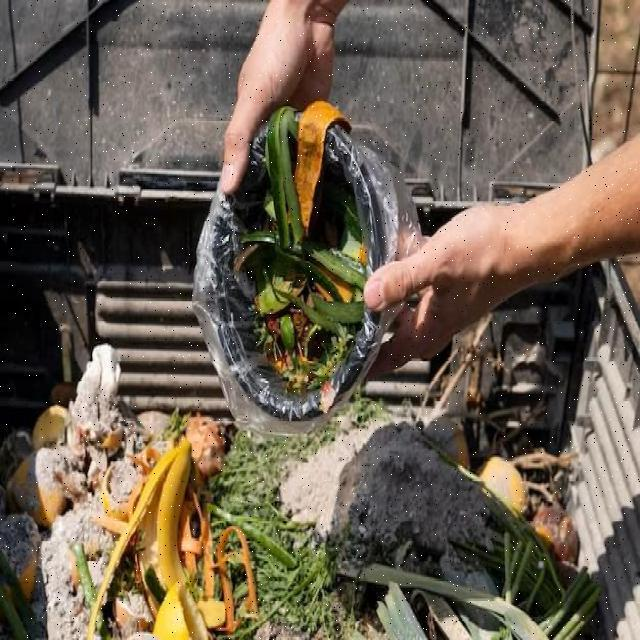Garbage: (1, 354, 625, 639)
